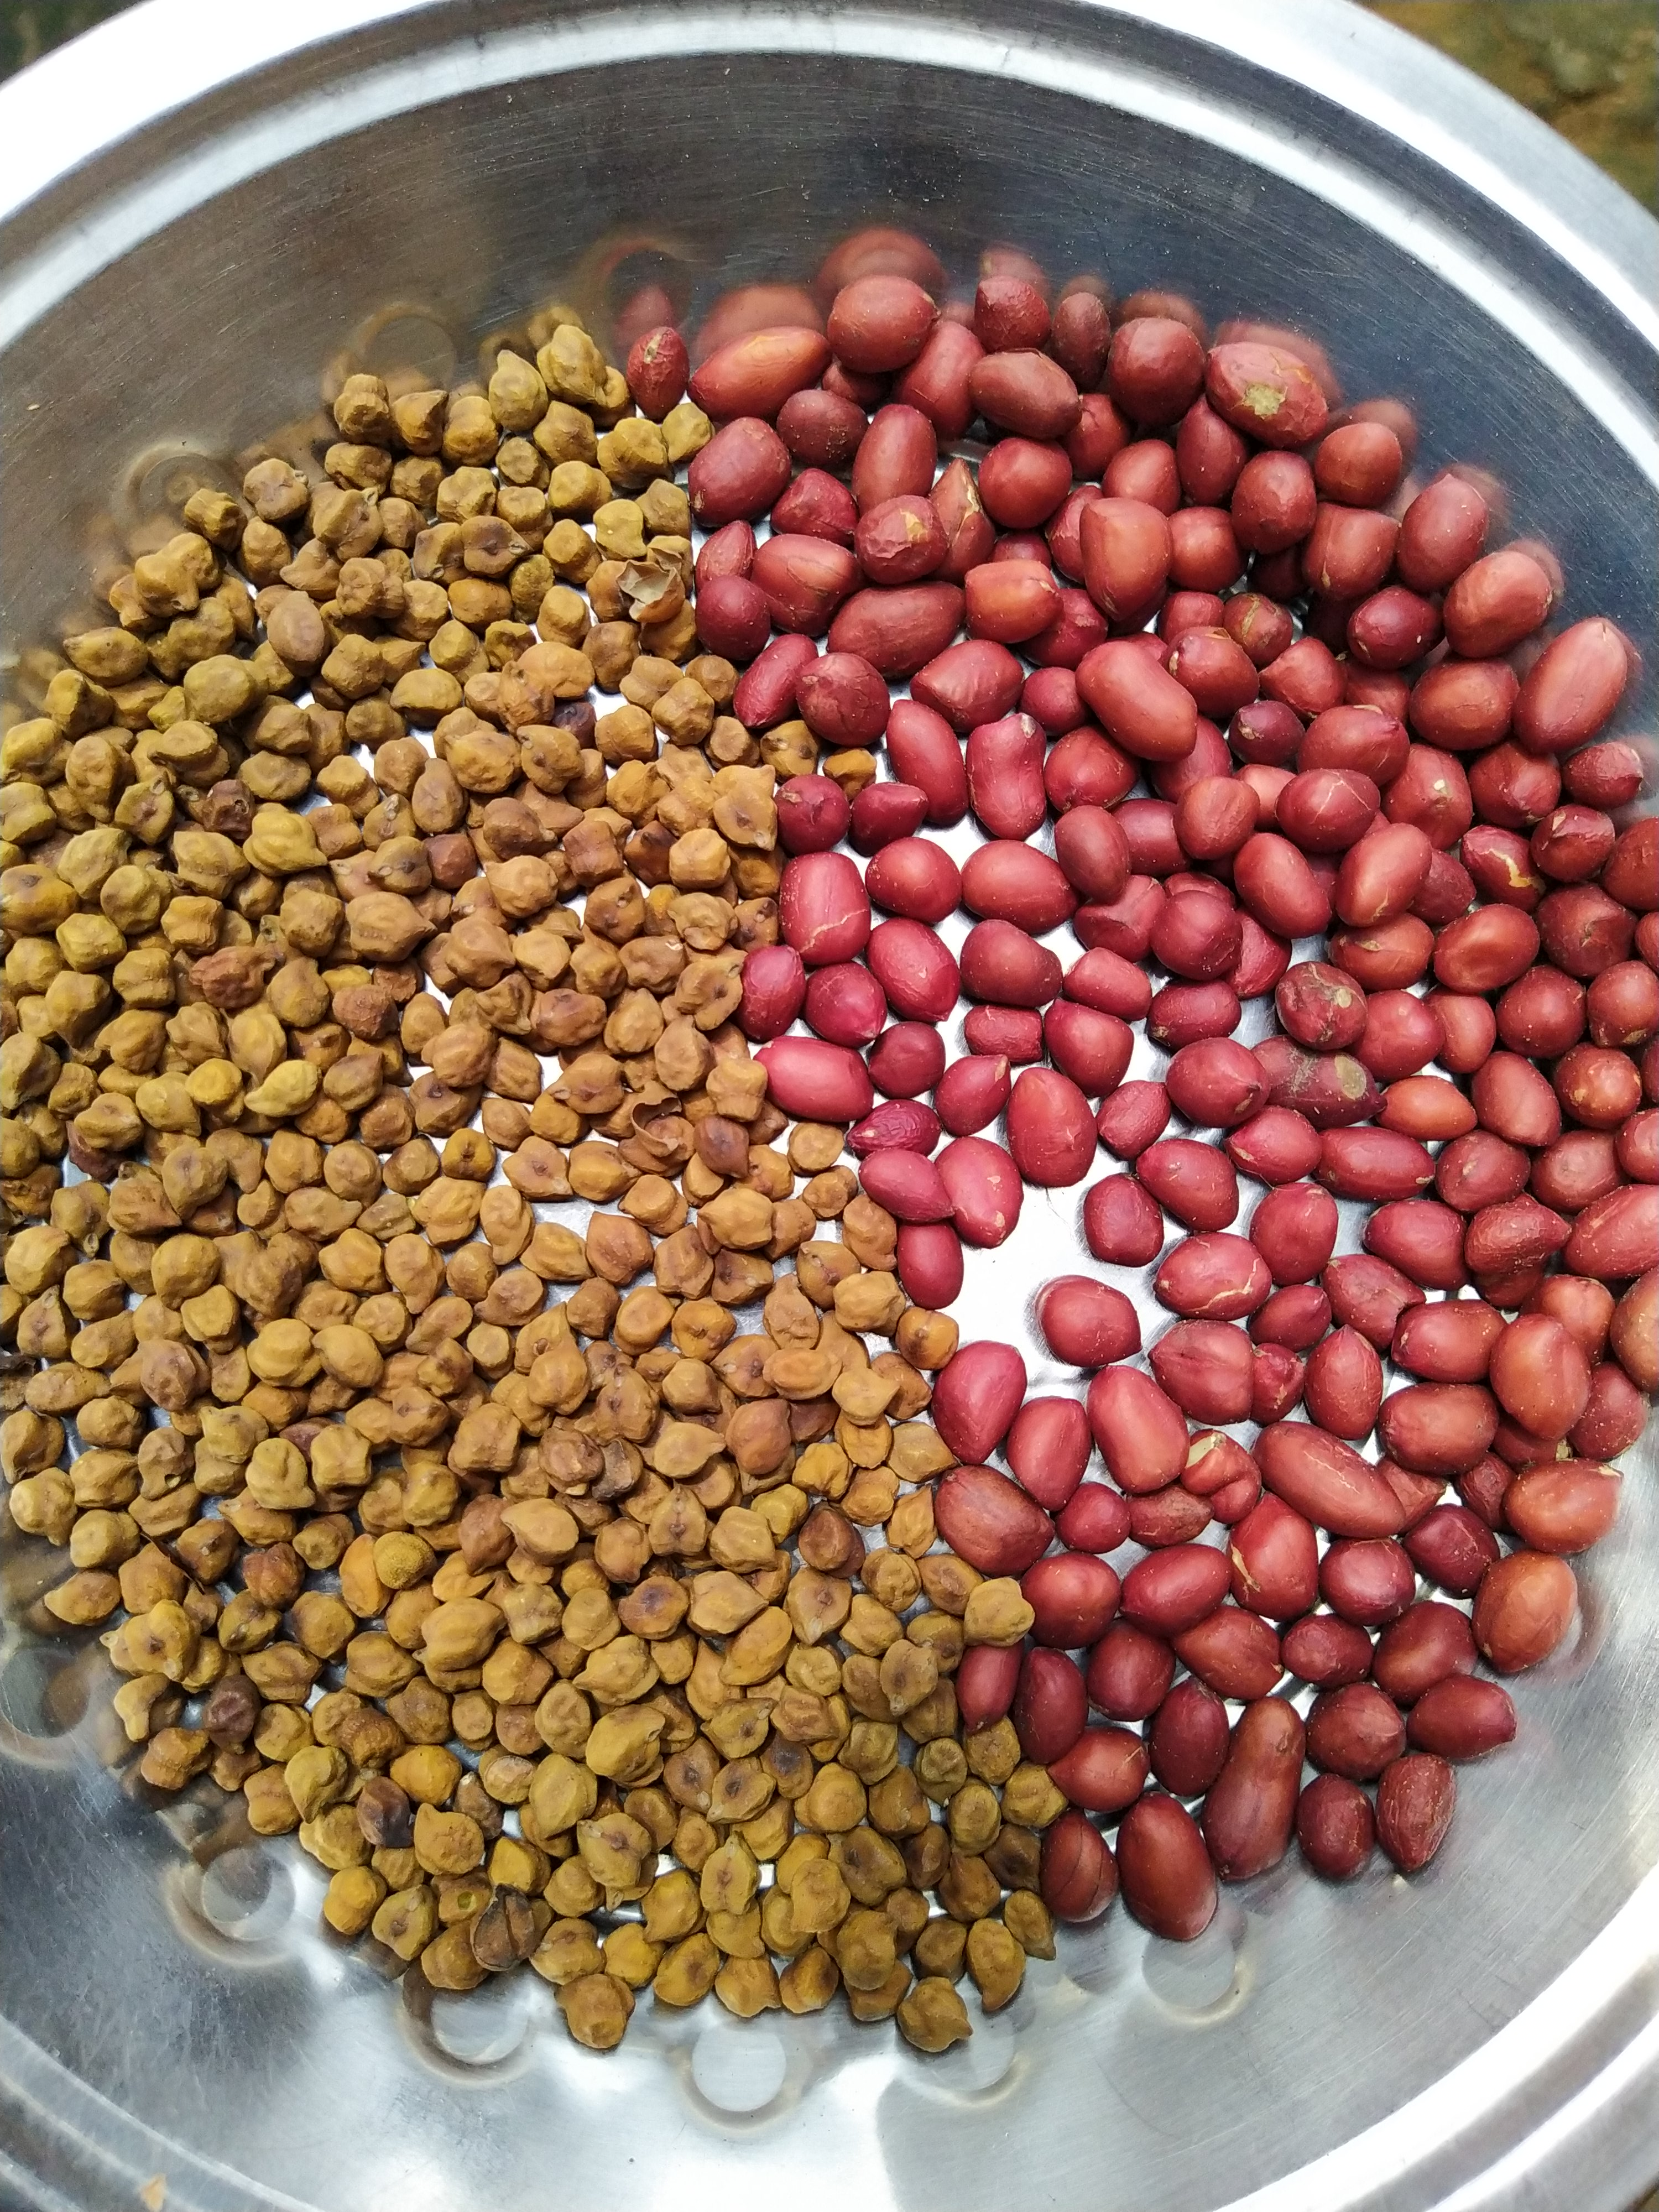food: (0, 239, 1652, 2059)
